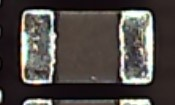COMP: (15, 4, 162, 90)
GAP: (23, 40, 152, 105)
